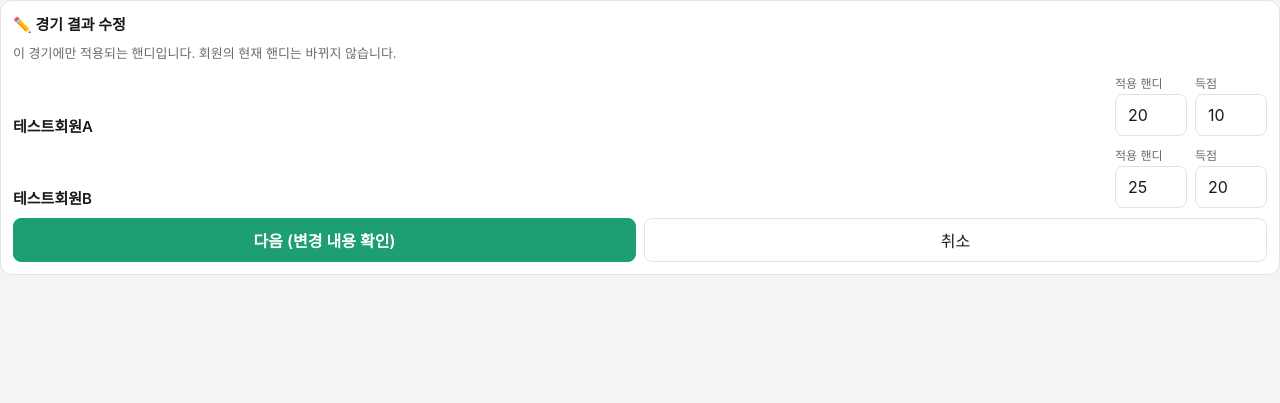
Test: CompletedGameEditor — 기본 핸디 대비 적용 핸디 › 기본 핸디보다 높은 적용 핸디는 경고 없이 그대로 진행된다
Replace the text in the number field named "테스트회원A 적용 핸디" with "22": x=1151, y=114 [1115, 94, 1187, 136]
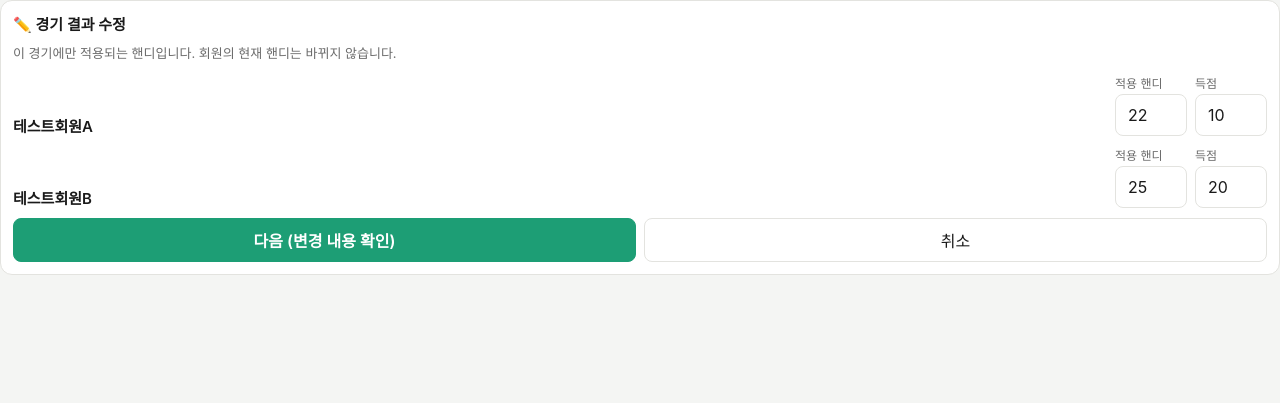
Click the button "다음 (변경 내용 확인)": x=324, y=240 [13, 218, 636, 262]
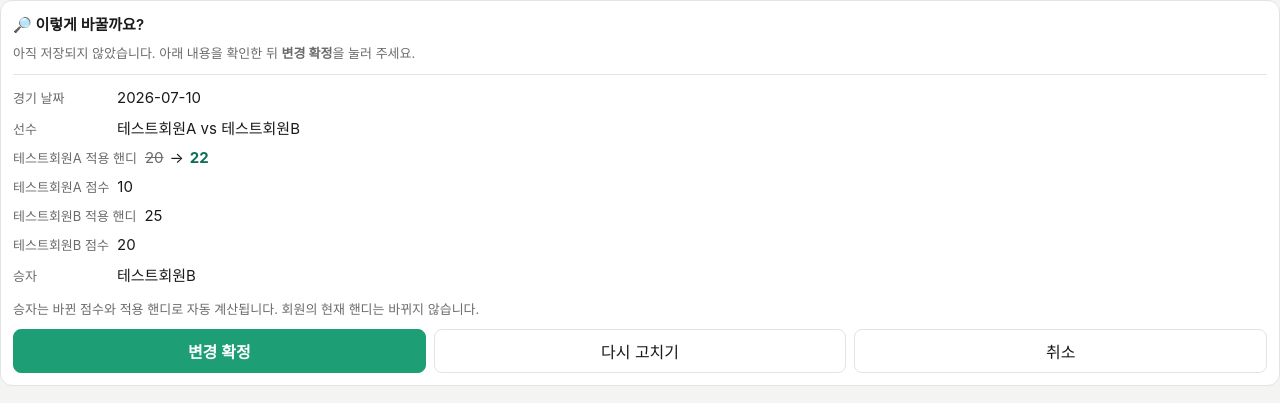
Now the button "변경 확정" is shown, box [13, 329, 426, 373]
